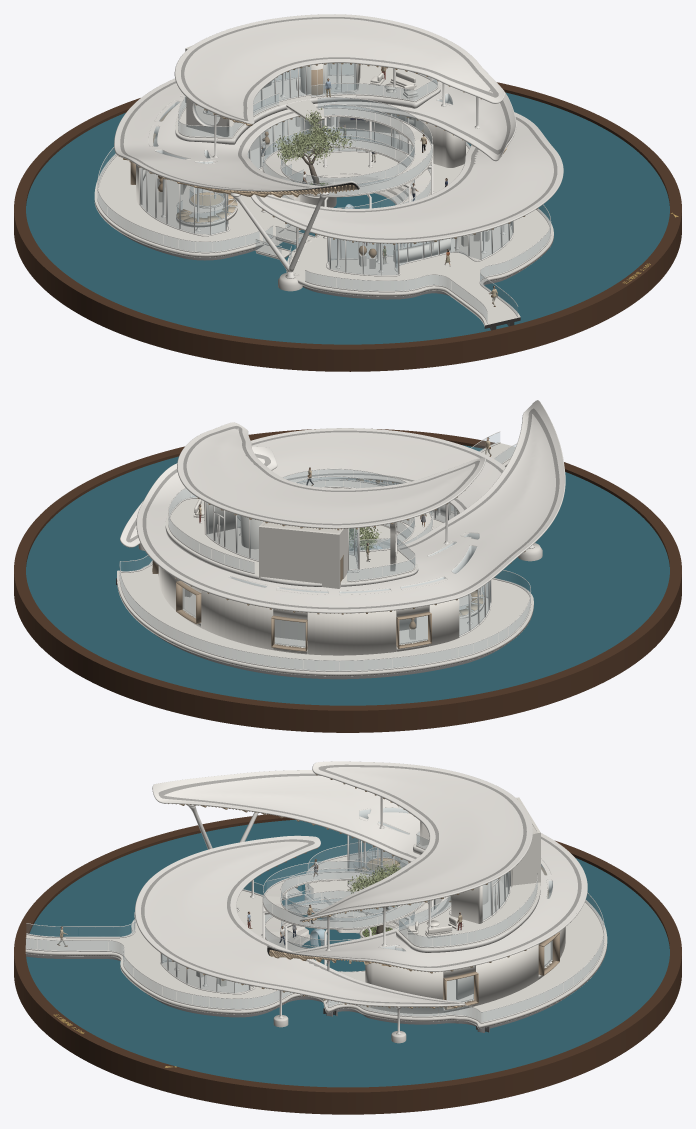
Rendered from cloud_tide_pavilion_ar.glb.
3 views of the same model, one above another, from view 1: azimuth 30°, elevation 25°; view 2: azimuth 150°, elevation 25°; view 3: azimuth 270°, elevation 25° (orthographic).
Visible parts, largest first — view 1: CloudTidePavilion, ModelBase; view 2: CloudTidePavilion, ModelBase; view 3: CloudTidePavilion, ModelBase.
Boxes of the visible parts, x1=… form: CloudTidePavilion: x1=94, y1=14, x2=563, y2=330; ModelBase: x1=14, y1=82, x2=681, y2=371; CloudTidePavilion: x1=116, y1=400, x2=565, y2=679; ModelBase: x1=14, y1=428, x2=681, y2=732; CloudTidePavilion: x1=25, y1=761, x2=607, y2=1043; ModelBase: x1=14, y1=814, x2=681, y2=1114.
Bounding box in the file's own units: 0.56 × 0.1402 × 0.56.
Materials: 99 (6 with a texture image).
